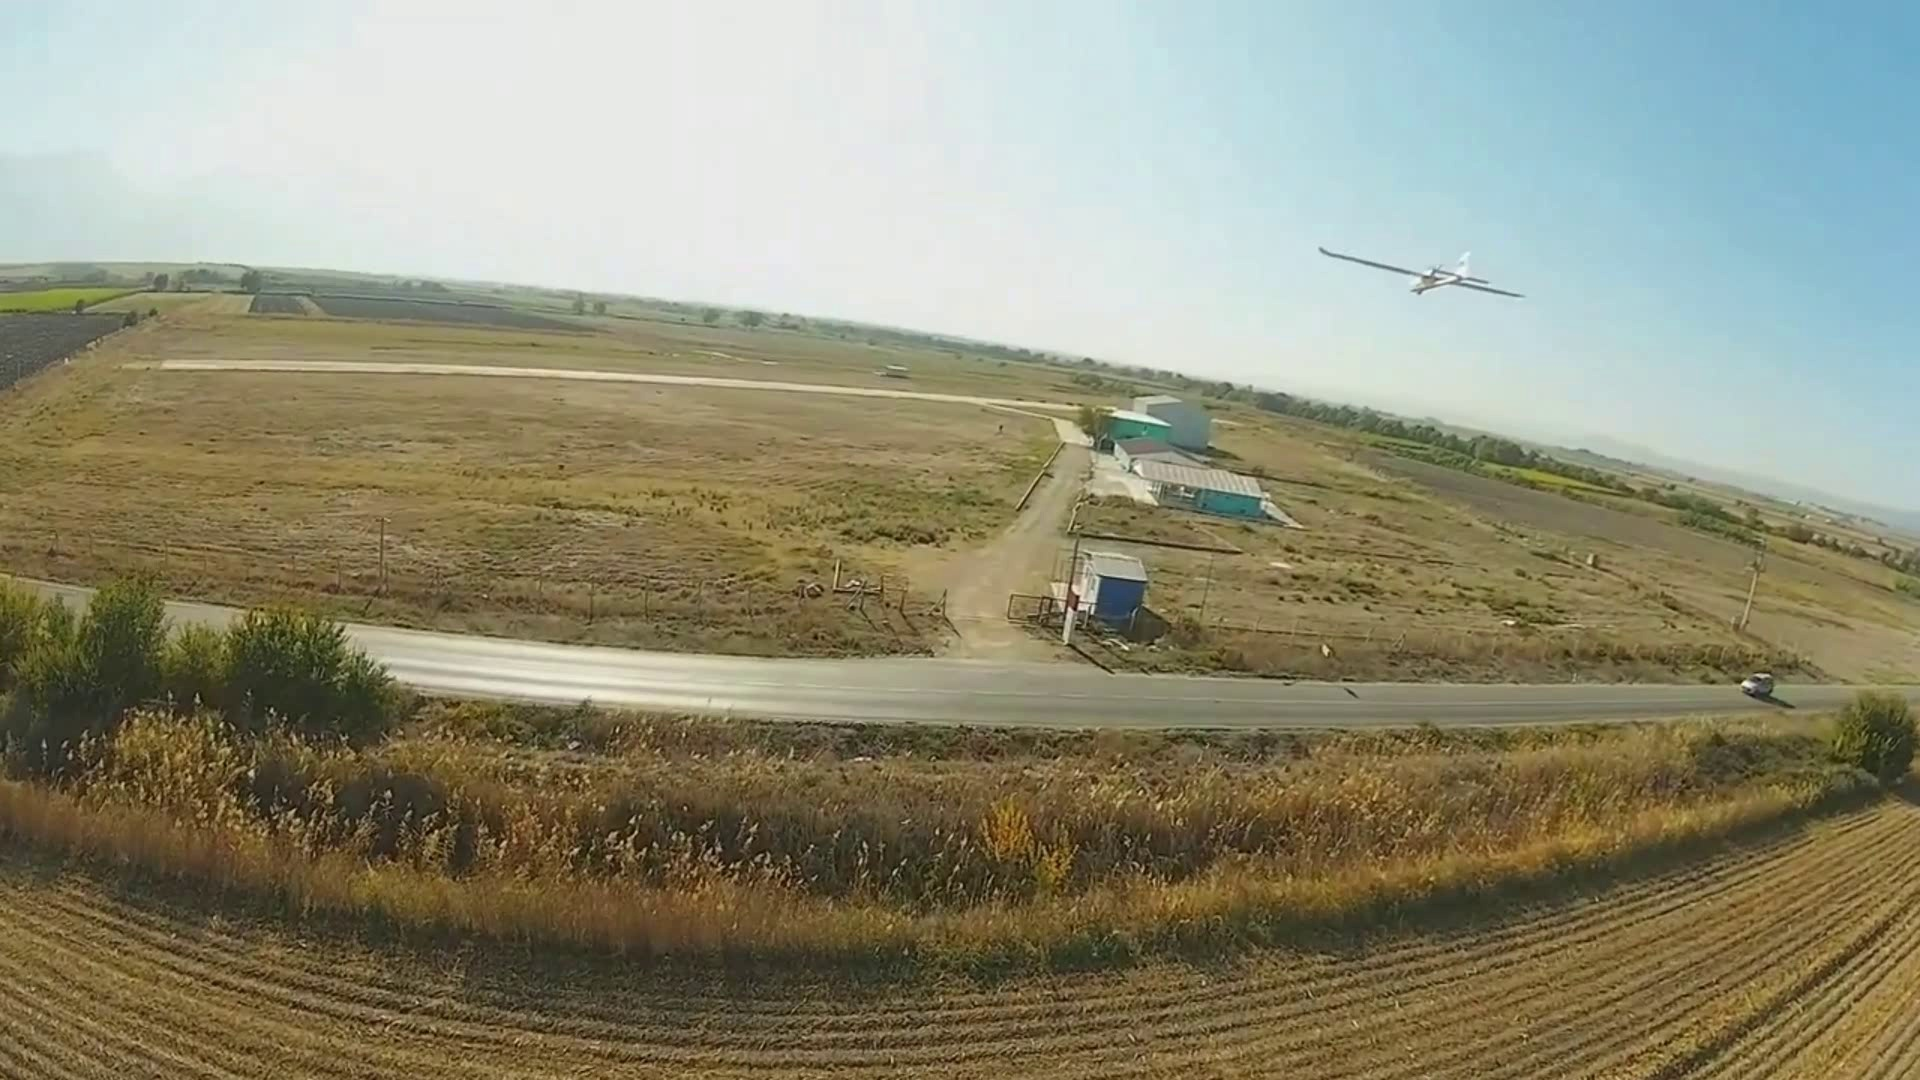airplane: (1316, 243, 1527, 301), (1369, 254, 1527, 300)
